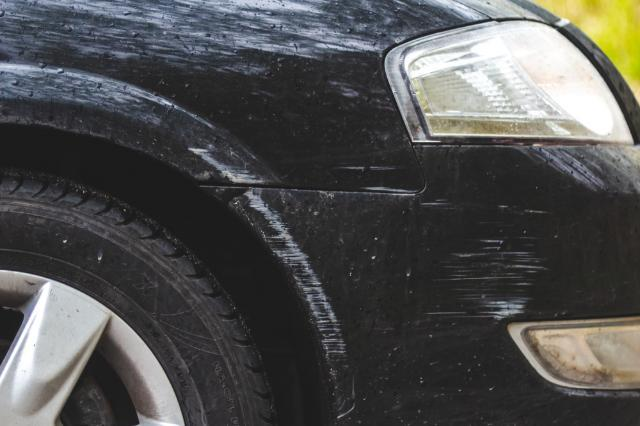scratch: (230, 189, 361, 422), (426, 197, 557, 325), (185, 143, 270, 183), (335, 162, 411, 194)
